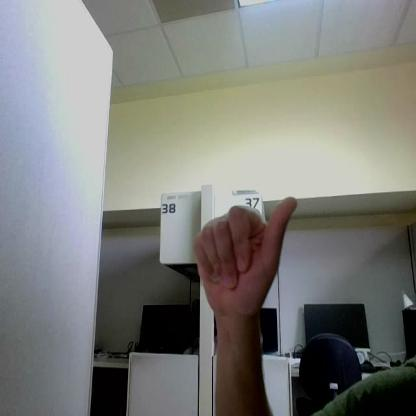A: (194, 197, 296, 317)
